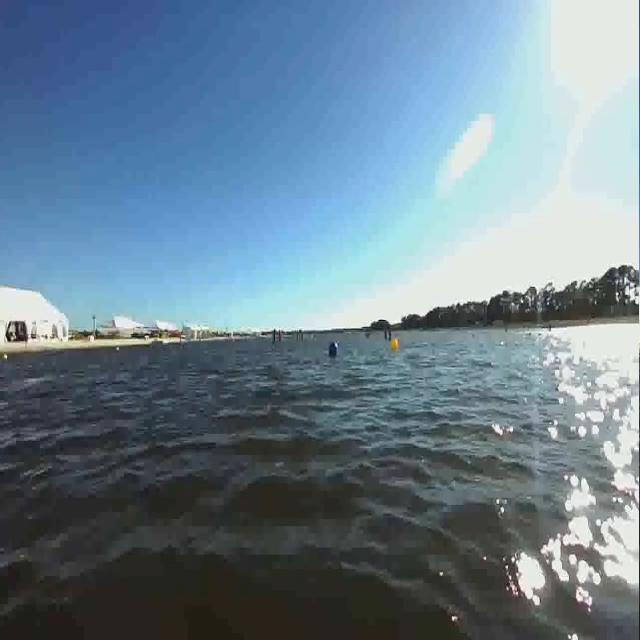blue-buoy: (326, 340, 338, 360)
yellow-buoy: (391, 338, 399, 352)
